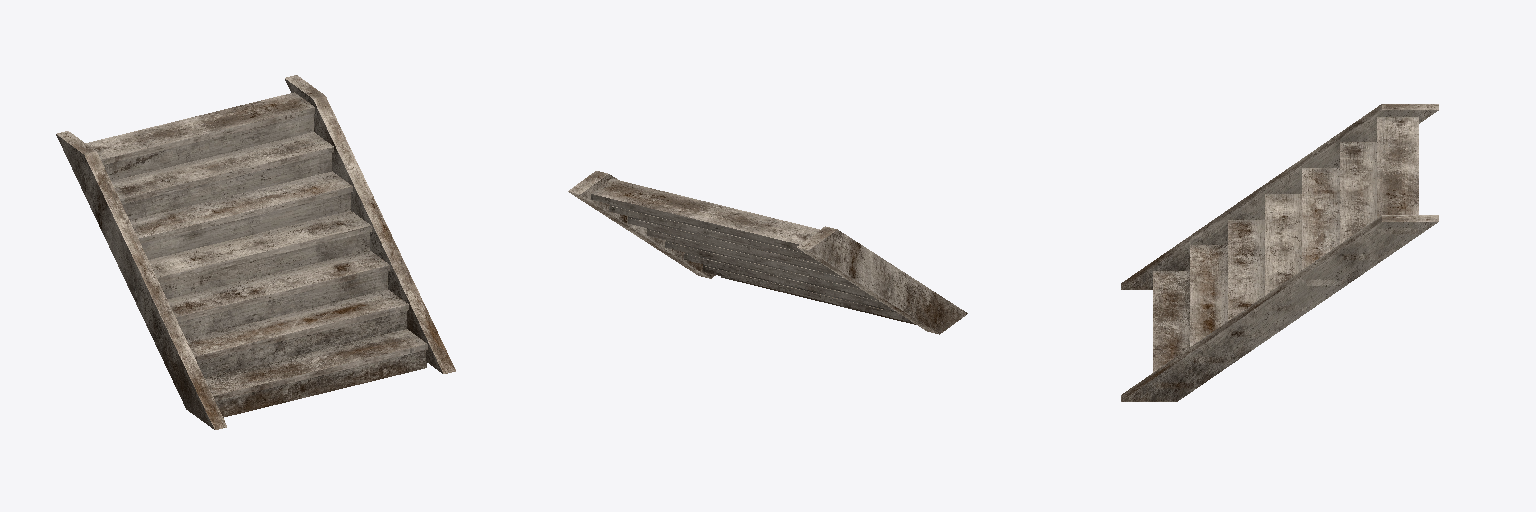
The picture shows the model from 3 angles: view 1: azimuth 30°, elevation 25°; view 2: azimuth 150°, elevation 25°; view 3: azimuth 270°, elevation 25°; orthographic projection.
Parts seen in each view (by area): view 1: defaultMaterial_defaultMaterial_stairs_AH; view 2: defaultMaterial_defaultMaterial_stairs_AH; view 3: defaultMaterial_defaultMaterial_stairs_AH.
Part boxes in pixels (x1,y1,x2,y2): defaultMaterial_defaultMaterial_stairs_AH: (56,75,455,429); defaultMaterial_defaultMaterial_stairs_AH: (568,171,967,334); defaultMaterial_defaultMaterial_stairs_AH: (1121,104,1438,401).
Bounding box in the file's own units: 0.995 × 0.7349 × 1.14.
1 materials, 1 textured.